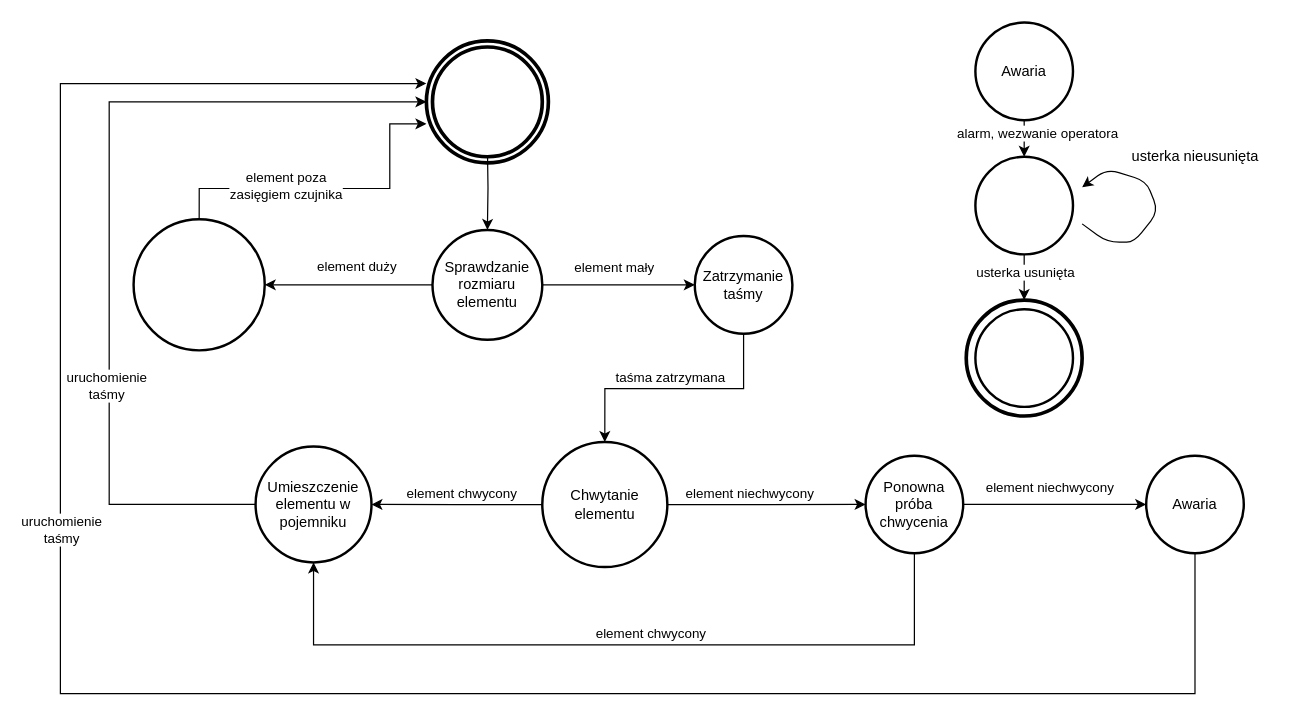
The diagram is 1290 pixels wide and 725 high, and some of its shapes have lost their labels. The centre of each missing label's shape, as x and y in pixels:
"Oczekiwanie na element" goes at (x=487, y=101).
"Oczekiwanie, aż element będzie poza zasięgiem czujnika" goes at (x=198, y=284).
"Usuwanie usterki" goes at (x=1024, y=205).
"Wyłączenie alarmu" goes at (x=1024, y=357).
